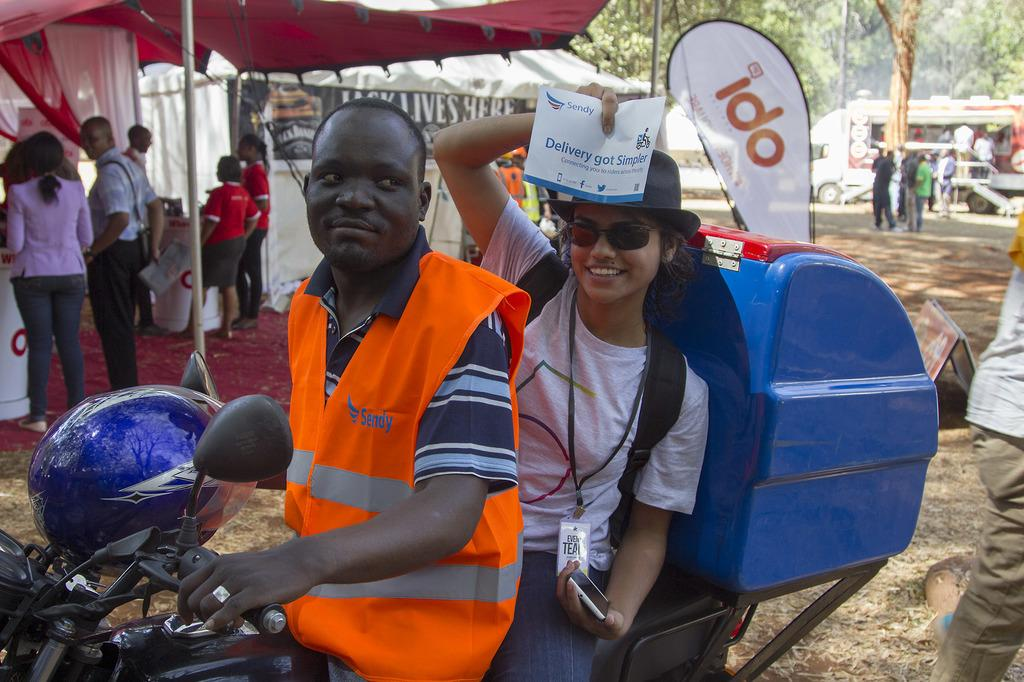helmet: (27, 384, 259, 579)
nohelmet: (535, 139, 704, 309), (299, 94, 436, 281), (22, 129, 66, 185), (77, 115, 117, 164), (235, 132, 267, 164), (214, 154, 244, 188), (127, 123, 154, 157)
